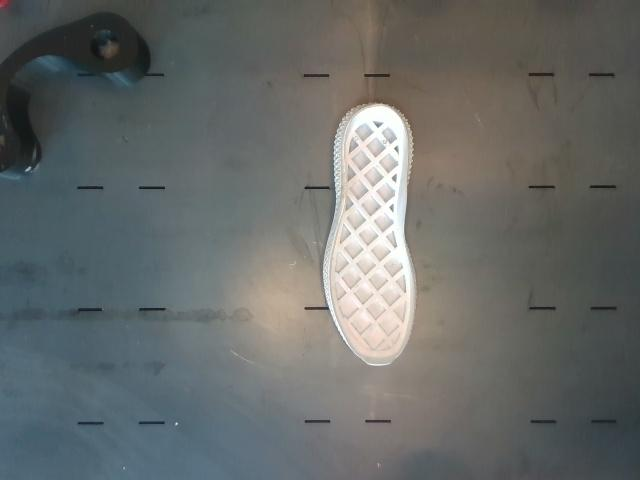shoes: (330, 106, 415, 364)
